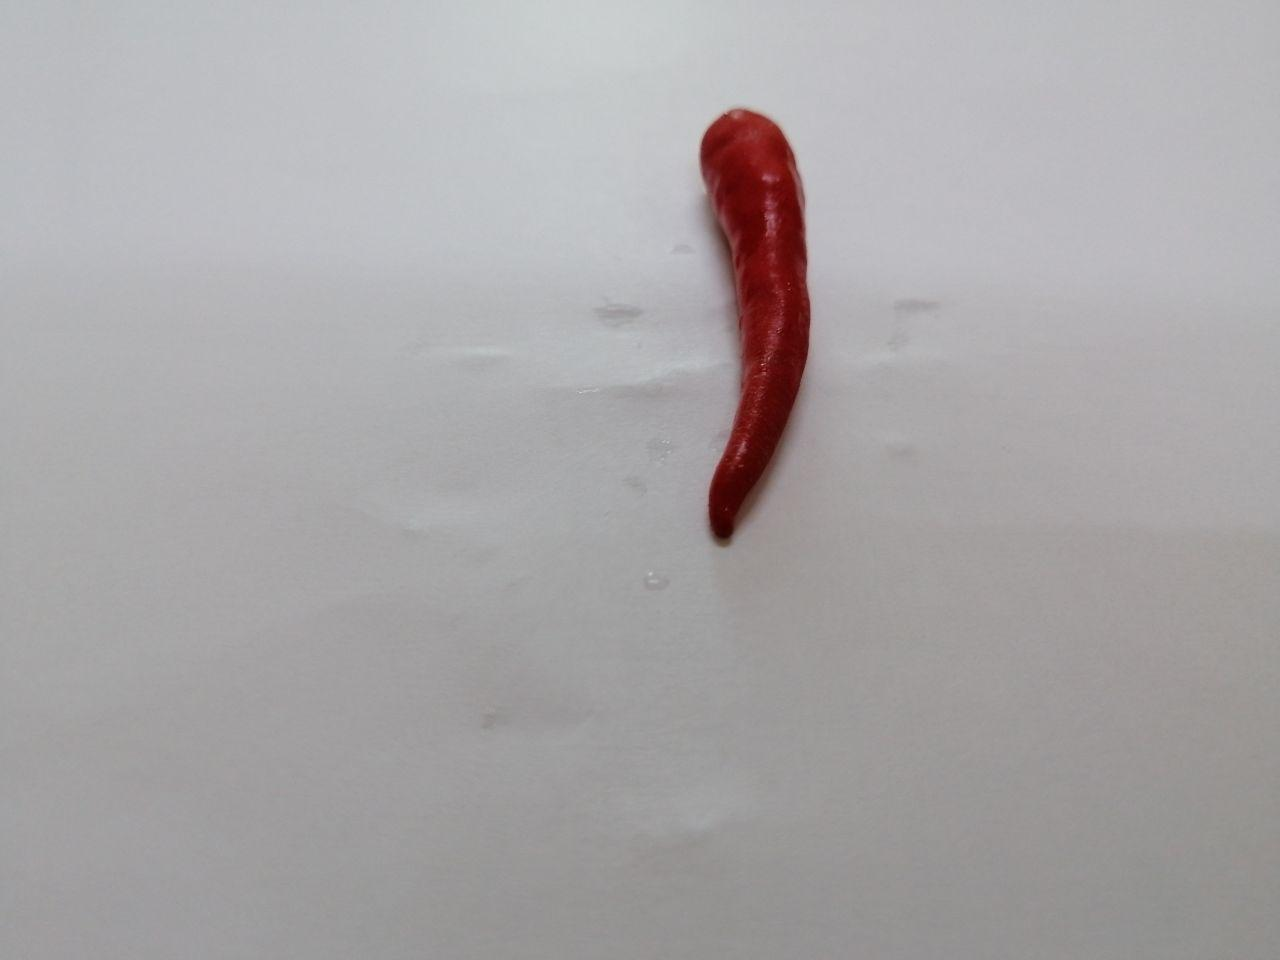lada merah: (649, 84, 834, 562)
